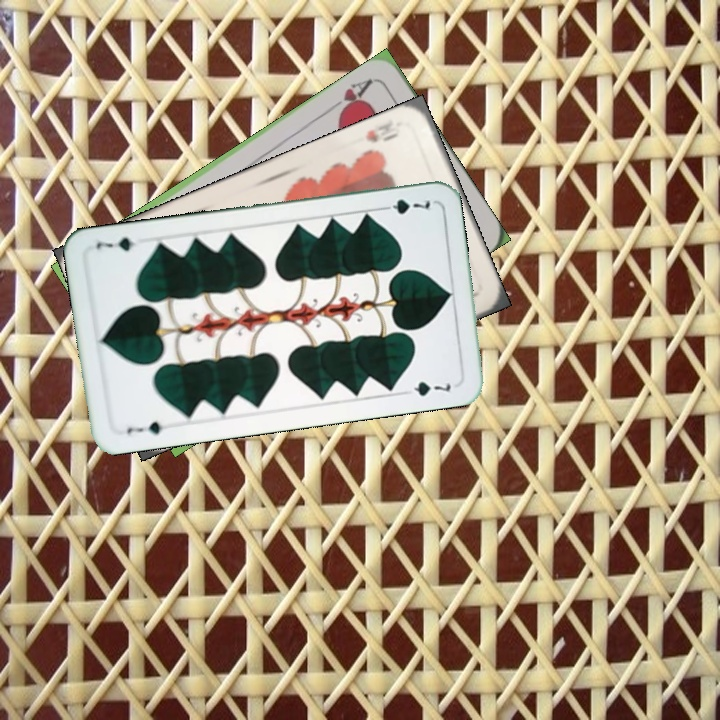G7: (375, 194, 433, 217), (123, 417, 165, 436)
H10: (361, 118, 403, 145)
HA: (324, 74, 376, 119)
